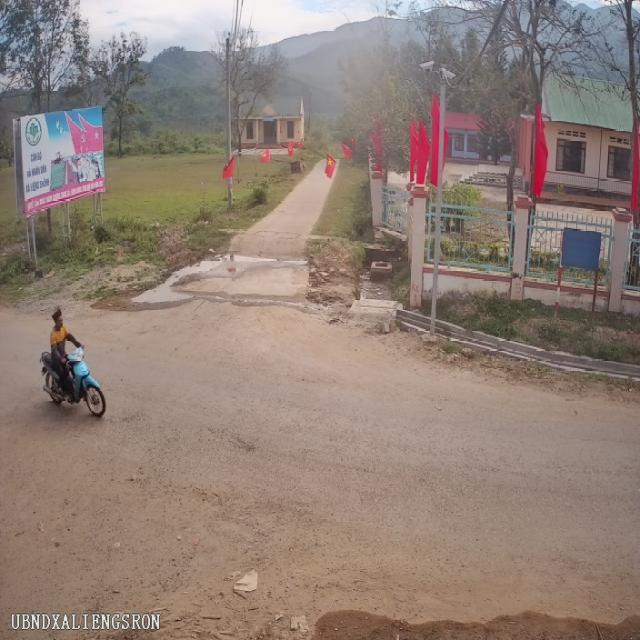without_helmet: (42, 304, 72, 341)
